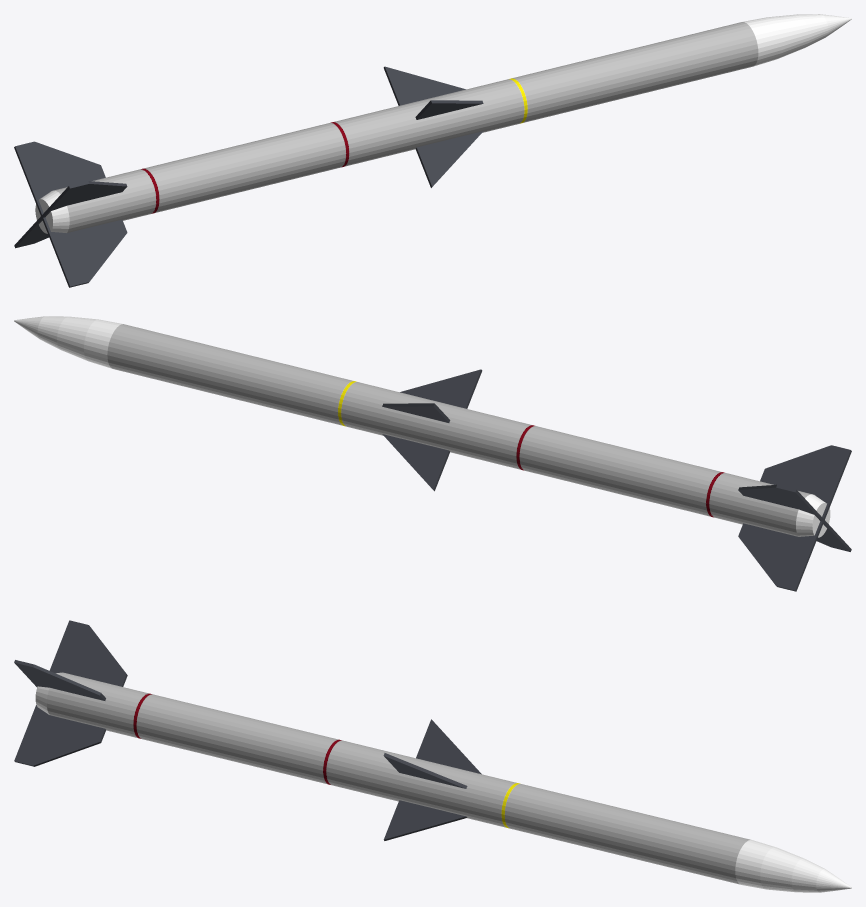
Rendered from aim120test.glb.
3 views of the same model, one above another, from view 1: azimuth 30°, elevation 25°; view 2: azimuth 150°, elevation 25°; view 3: azimuth 330°, elevation 25° (orthographic).
Visible parts, largest first — view 1: 円柱.001; view 2: 円柱.001; view 3: 円柱.001.
Boxes of the visible parts, x1,y1,x2,y2 form: 円柱.001: (14,14,851,287); 円柱.001: (14,316,851,591); 円柱.001: (14,620,851,892).
Bounding box in the file's own units: 4.39 × 0.5295 × 0.5283.
4 materials, 4 textured.
